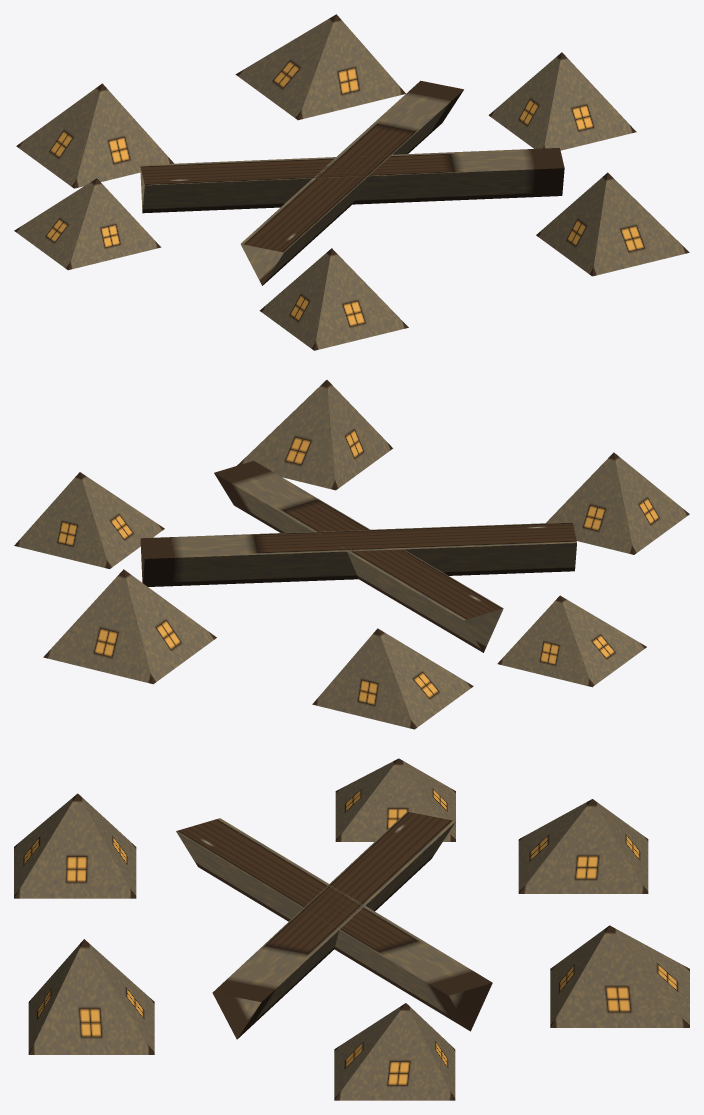
The model's file is campfire.obj.
3 views of the same model, one above another, from view 1: azimuth 30°, elevation 25°; view 2: azimuth 150°, elevation 25°; view 3: azimuth 270°, elevation 25° (orthographic). The views are drawn at different scales.
Parts seen in each view (by area): view 1: campfire; view 2: campfire; view 3: campfire.
Boxes of the visible parts, box(x1,y1,x2,y2) form: campfire: box(14, 14, 689, 350); campfire: box(14, 380, 689, 729); campfire: box(14, 758, 689, 1100).
Size of the model in its own units: 1.88 by 0.2506 by 1.74.
Materials: 1 (1 with a texture image).
